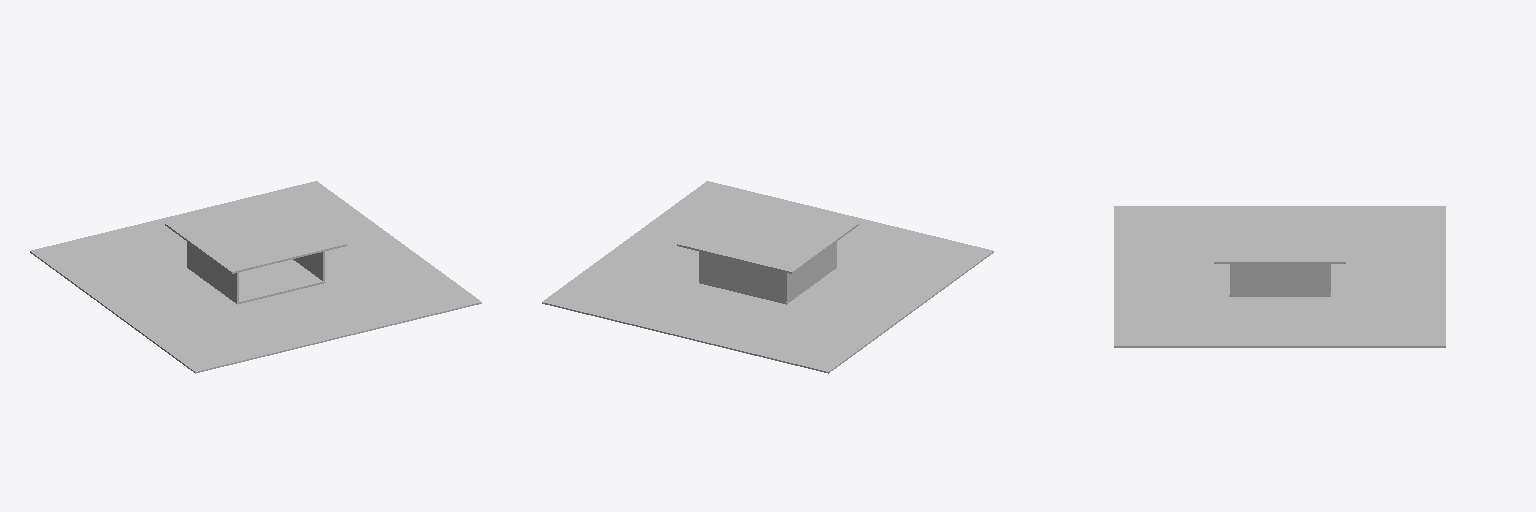
The model's file is test_gallery2_scene.obj.
3 renders of one model, left to right at view 1: azimuth 30°, elevation 25°; view 2: azimuth 150°, elevation 25°; view 3: azimuth 270°, elevation 25°, orthographic.
Visible parts, largest first — view 1: Floor, Gallery_Ceiling, Gallery_Floor, Left_Wall; view 2: Floor, Gallery_Ceiling, Back_Wall, Left_Wall; view 3: Floor, Gallery_Ceiling, Right_Wall.
Boxes of the visible parts, <box> form: Floor: <box>30,181,481,373</box>; Gallery_Ceiling: <box>165,196,346,273</box>; Gallery_Floor: <box>187,259,324,304</box>; Left_Wall: <box>187,242,238,301</box>; Floor: <box>542,181,993,373</box>; Gallery_Ceiling: <box>677,196,858,273</box>; Back_Wall: <box>700,252,785,301</box>; Left_Wall: <box>786,242,836,301</box>; Floor: <box>1114,206,1445,347</box>; Gallery_Ceiling: <box>1214,206,1345,263</box>; Right_Wall: <box>1230,264,1329,294</box>.
Size of the model in its own units: 20 by 2.92 by 20.